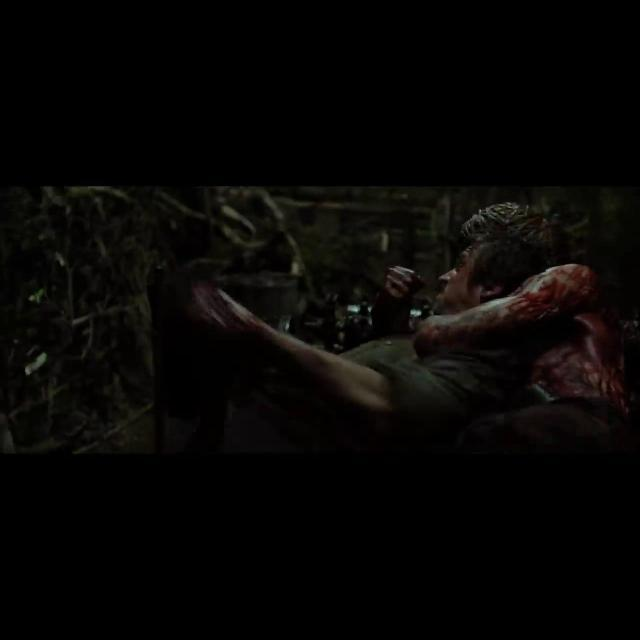blood: (414, 264, 631, 412)
